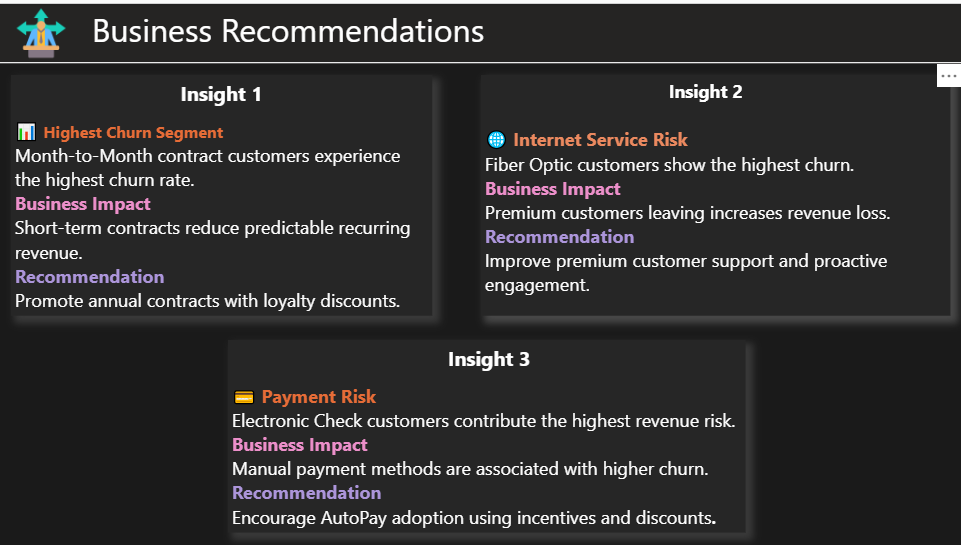

The dashboard page shown, as its layout file describes it:
{"tool":"powerbi","page":{"name":"Page 3","canvas":[1280,720],"ordinal":2},"visuals":[{"type":"textbox","box":[16,96,560,320],"z":0},{"type":"textbox","box":[640,96,624,320],"z":1000},{"type":"textbox","box":[304,448,720,272],"z":2000},{"type":"textbox","box":[0,0,1280,80],"z":3000},{"type":"image","box":[0,0,112,80],"z":4000}]}

Visuals, with their boxes in screenshot pixels (x1, y1, x2, y2), scaled from the page's 1280x720 canvas onto the 961x545 screenshot:
textbox: bbox(12, 73, 432, 315)
textbox: bbox(480, 73, 949, 315)
textbox: bbox(228, 339, 769, 544)
textbox: bbox(0, 0, 960, 61)
image: bbox(0, 0, 84, 61)
